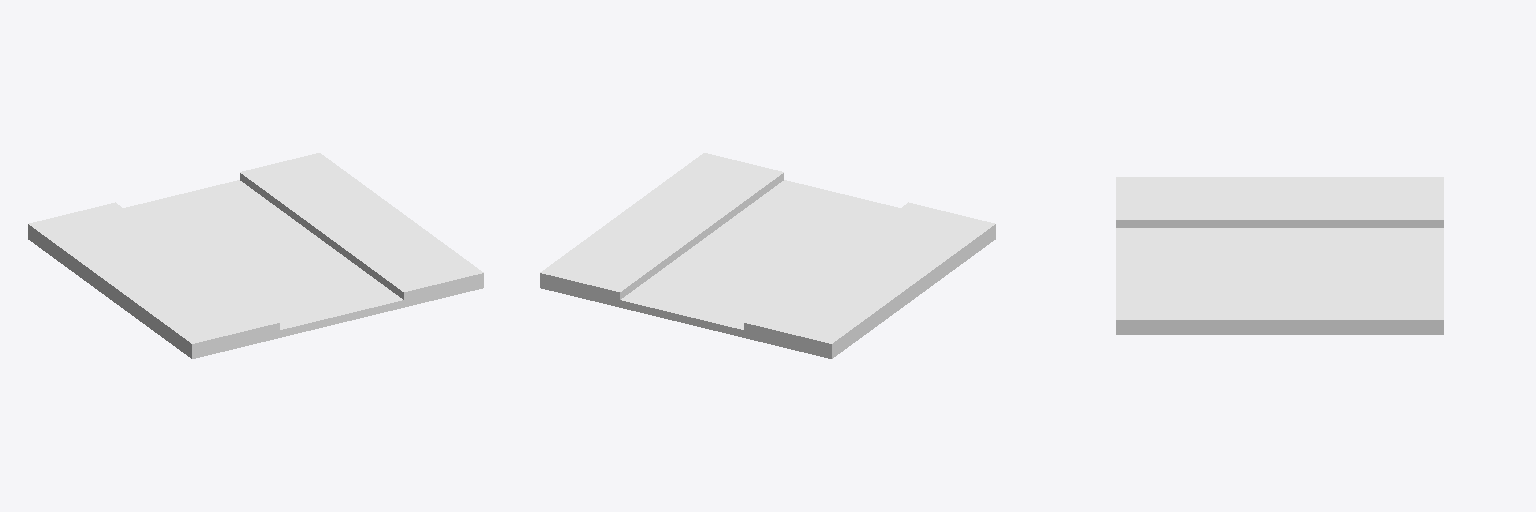
The model's file is jalan.obj.
The picture shows the model from 3 angles: view 1: azimuth 30°, elevation 25°; view 2: azimuth 150°, elevation 25°; view 3: azimuth 270°, elevation 25°; orthographic projection.
Visible parts, largest first — view 1: object 1; view 2: object 1; view 3: object 1.
Boxes of the visible parts, x1,y1,x2,y2 form: object 1: [28, 153, 483, 358]; object 1: [540, 153, 995, 358]; object 1: [1116, 177, 1443, 334].
Bounding box in the file's own units: 4 × 0.2 × 3.9.